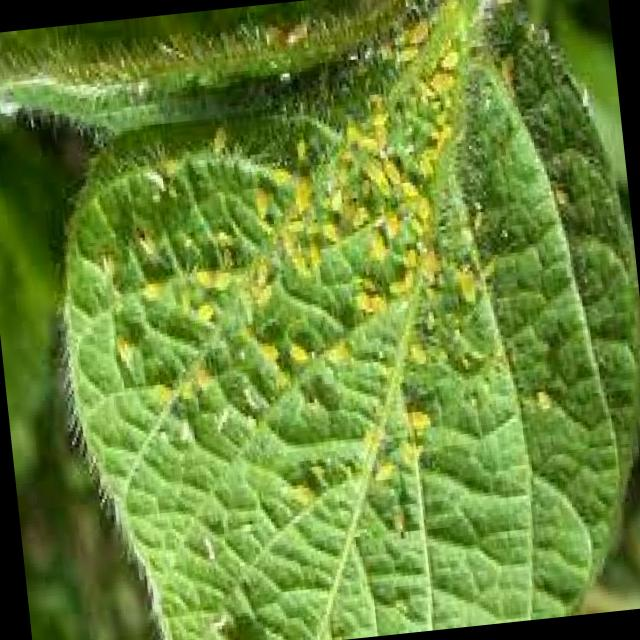aphid: (103, 326, 142, 376), (197, 120, 234, 170), (348, 284, 386, 326), (278, 334, 314, 378), (319, 334, 355, 377), (452, 264, 481, 316), (244, 187, 272, 239), (312, 216, 345, 259), (132, 272, 164, 316), (361, 226, 390, 274), (378, 274, 411, 314), (260, 160, 295, 197), (402, 404, 434, 444), (188, 366, 218, 408), (147, 376, 177, 418), (432, 44, 466, 81), (252, 338, 282, 378), (170, 286, 200, 326), (404, 14, 434, 54), (378, 156, 406, 198), (390, 38, 420, 76), (286, 135, 314, 174), (369, 457, 398, 494), (424, 69, 456, 102), (338, 116, 363, 158), (404, 339, 430, 378), (530, 383, 556, 422), (188, 301, 217, 334), (398, 177, 427, 210), (283, 216, 307, 242)
